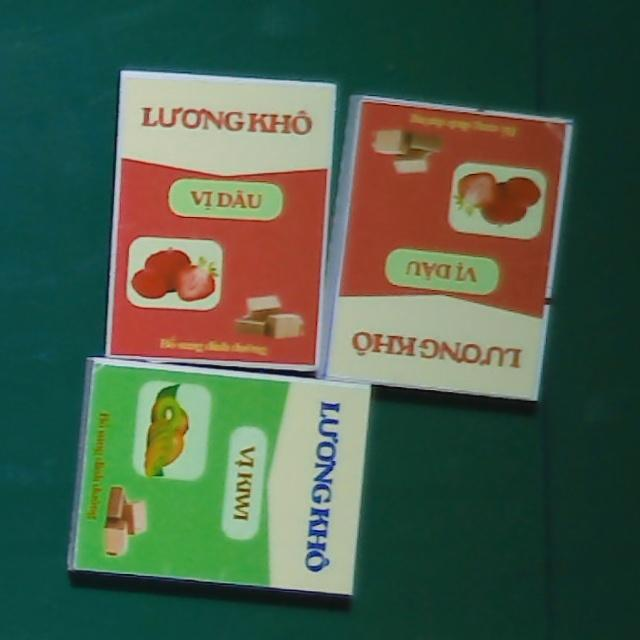dau: (316, 94, 574, 405), (103, 70, 336, 373)
kiwi: (65, 355, 374, 600)
